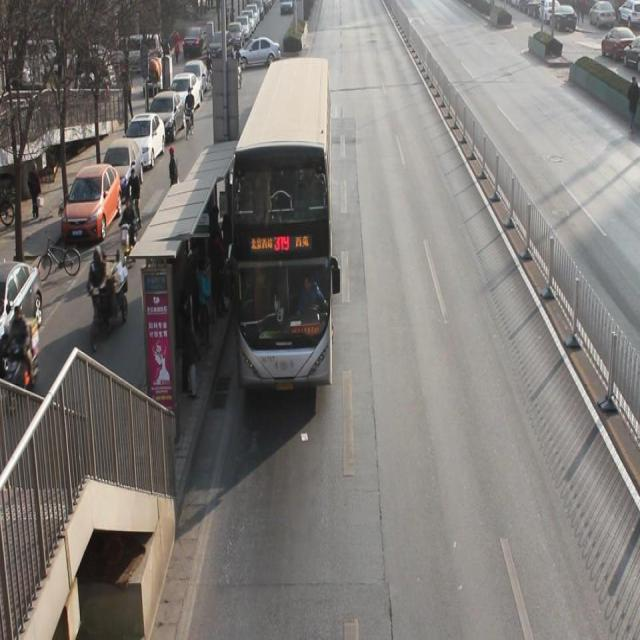van: (231, 55, 332, 385)
